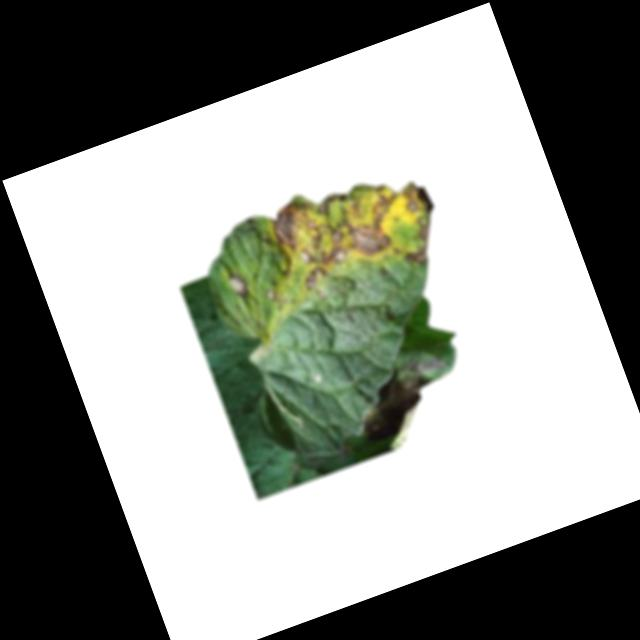Early_blight: (239, 155, 451, 321), (365, 347, 465, 444), (224, 269, 251, 301)
